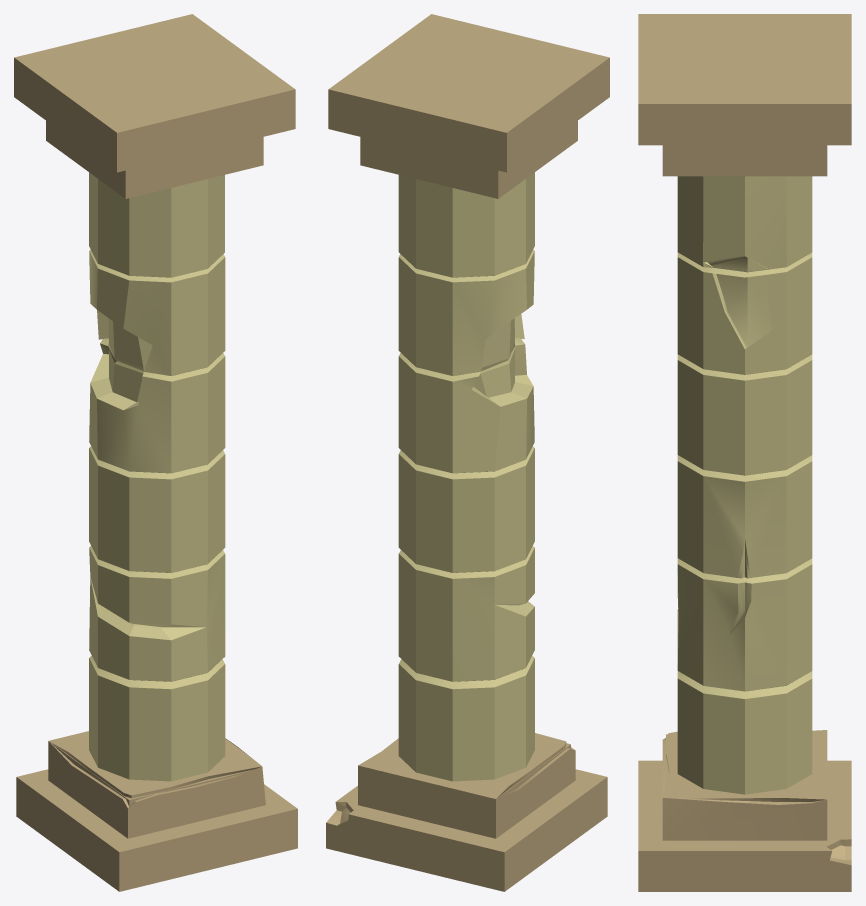
The model's file is full ancient pillar.fbx.
3 renders of one model, left to right at view 1: azimuth 30°, elevation 25°; view 2: azimuth 150°, elevation 25°; view 3: azimuth 270°, elevation 25°, orthographic. The views are drawn at different scales.
Parts seen in each view (by area): view 1: pCube13; view 2: pCube13; view 3: pCube13.
Boxes of the visible parts, x1,y1,x2,y2 form: pCube13: (14,14,297,891); pCube13: (326,14,609,891); pCube13: (638,14,851,891).
Size of the model in its own units: 2.67 by 10.74 by 2.64.
